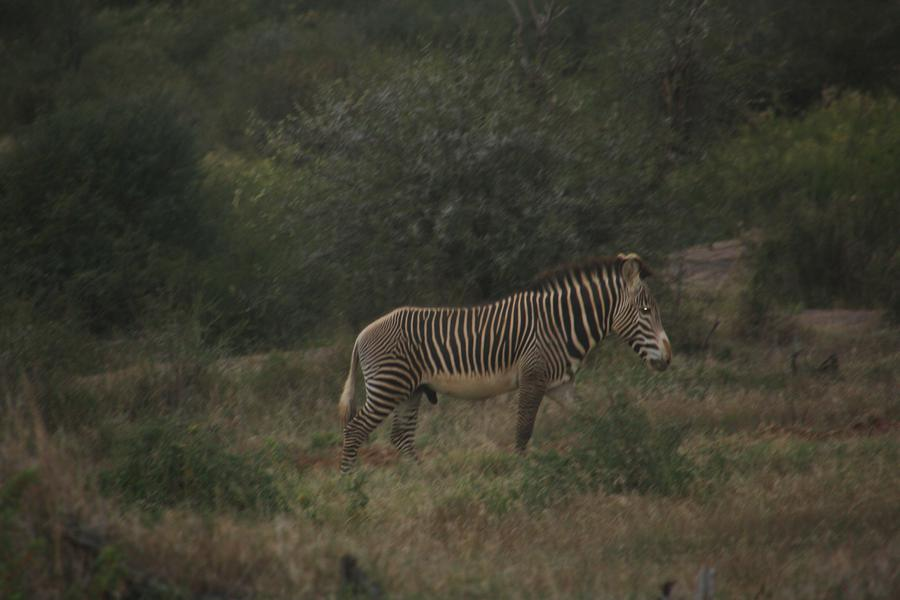zebra_grevys: (348, 302, 559, 388)
